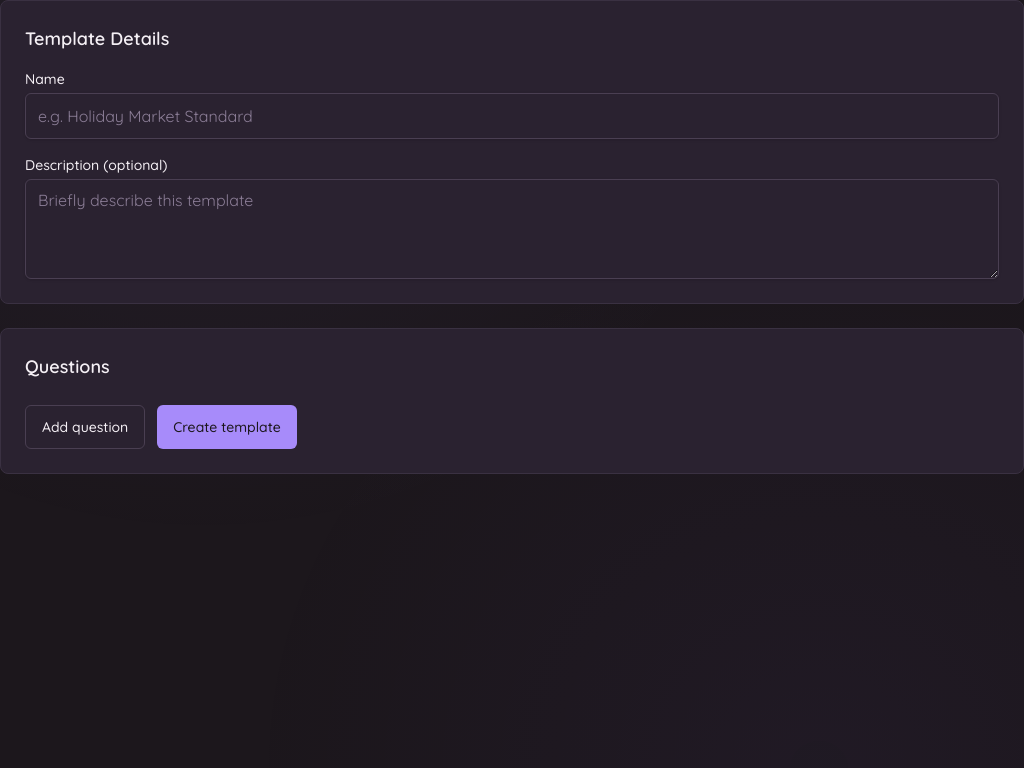
Test: TemplateBuilder › save failure › renders an error alert when createTemplate returns a failure
Type "My Template" into the field with placeholder "e.g. Holiday Market Standard" at (512, 116), box [25,93,999,139]
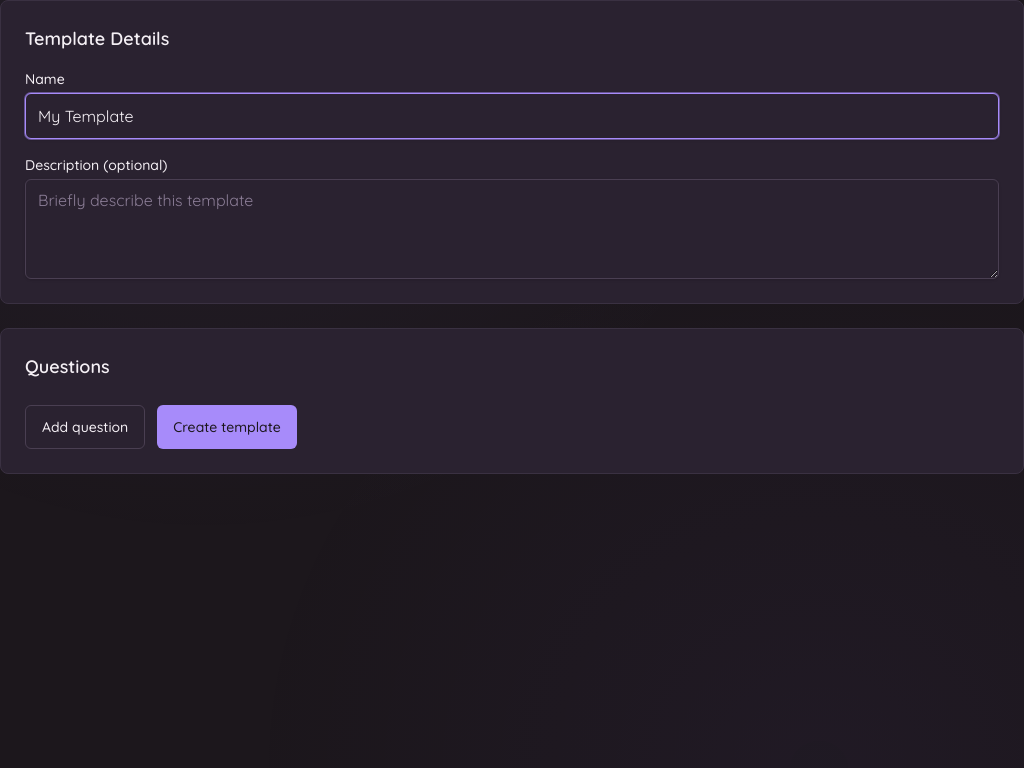
Click the button "Create template" at (227, 427), box [157,405,297,449]
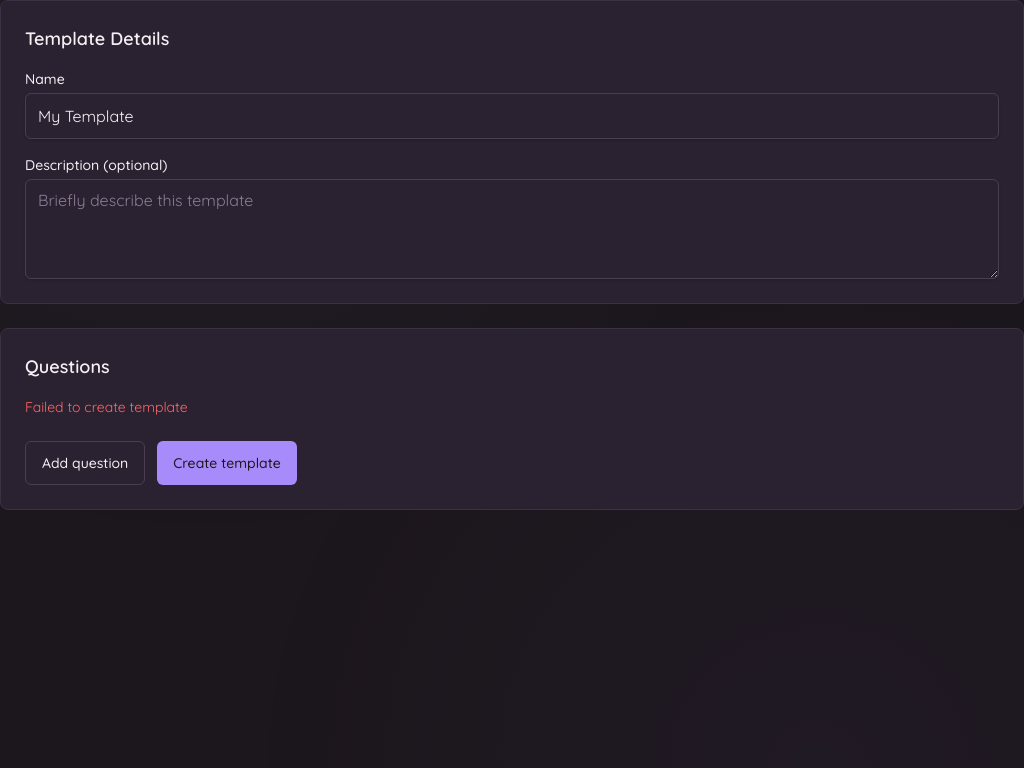
Check: the message reads "Failed to create template", box [25,398,188,416]
